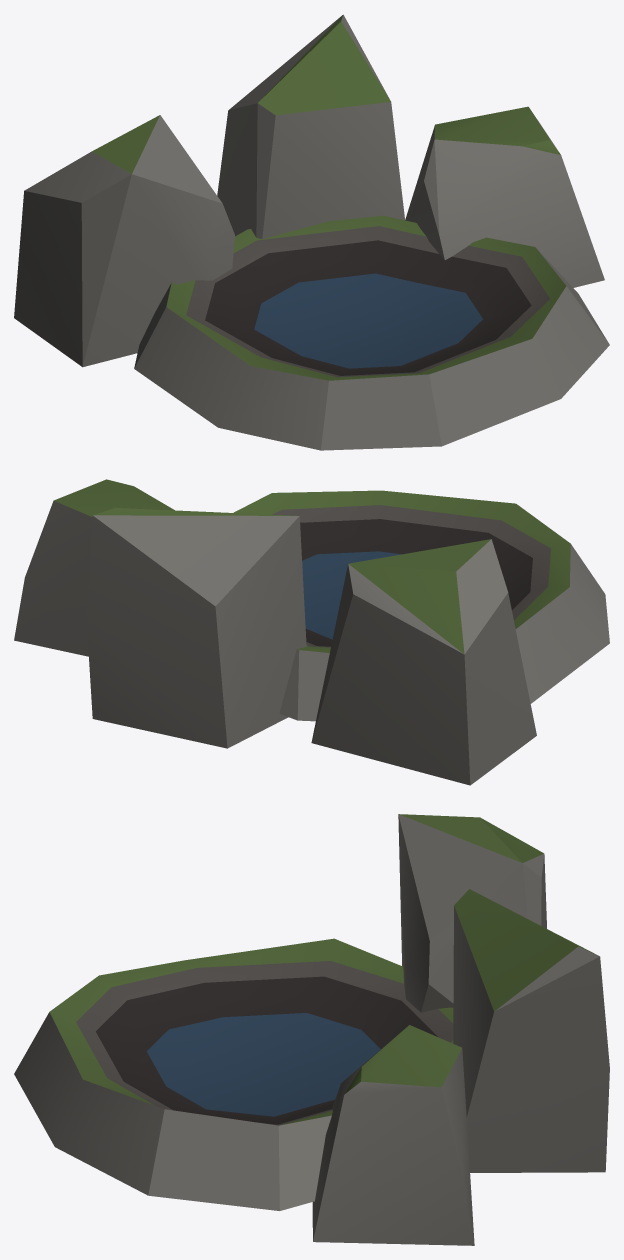
Rendered from Sump.fbx.
The picture shows the model from 3 angles, top to bottom: view 1: azimuth 30°, elevation 25°; view 2: azimuth 150°, elevation 25°; view 3: azimuth 270°, elevation 25°; orthographic projection. The views are drawn at different scales.
Parts seen in each view (by area): view 1: Sump; view 2: Sump; view 3: Sump.
Part boxes in pixels (x1,y1,x2,y2): Sump: (14,14,609,450); Sump: (14,479,609,785); Sump: (14,814,609,1245).
Size of the model in its own units: 3.16 by 1.26 by 3.08.
